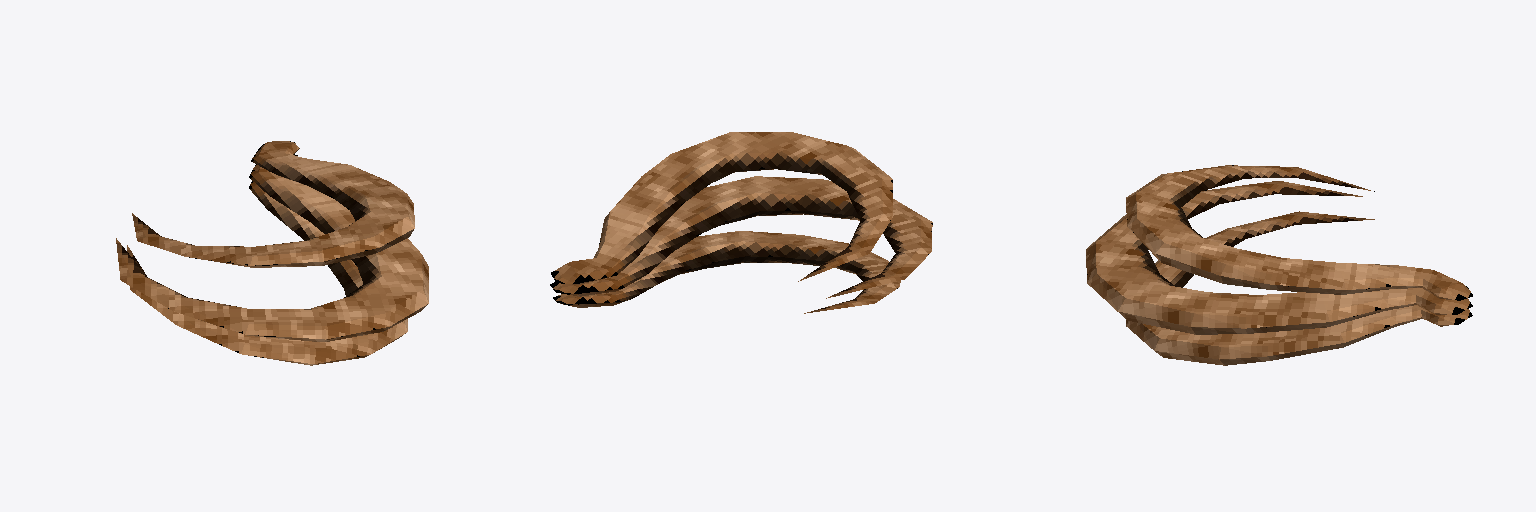
3 renders of one model, left to right at view 1: azimuth 30°, elevation 25°; view 2: azimuth 150°, elevation 25°; view 3: azimuth 270°, elevation 25°, orthographic.
Visible parts, largest first — view 1: base; view 2: base; view 3: base.
Boxes of the visible parts, x1,y1,x2,y2 form: base: [116, 141, 428, 365]; base: [550, 132, 932, 313]; base: [1086, 165, 1472, 365].
Bounding box in the file's own units: 0.6354 × 0.2689 × 0.7851.
1 materials, 1 textured.